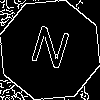N: (25, 25, 73, 79)
